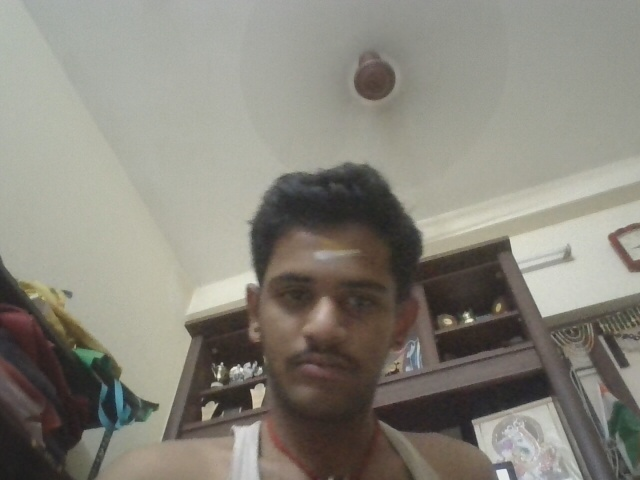real: (241, 227, 416, 402)
